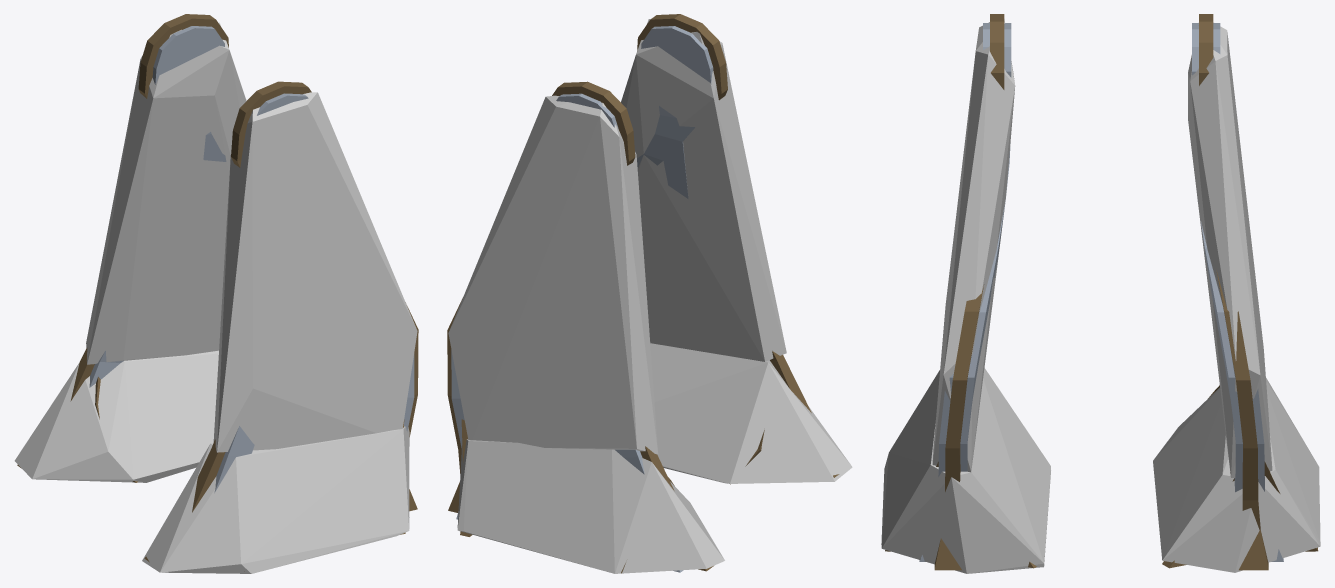
File: SM_Prop_Telescope_01.fbx
The picture shows the model from 3 angles, left to right: view 1: azimuth 30°, elevation 25°; view 2: azimuth 150°, elevation 25°; view 3: azimuth 270°, elevation 25°; orthographic projection. The views are drawn at different scales.
Parts seen in each view (by area): view 1: SM_Prop_Telescope_01_ConvexHulls, SM_Prop_Telescope_01; view 2: SM_Prop_Telescope_01_ConvexHulls, SM_Prop_Telescope_01; view 3: SM_Prop_Telescope_01_ConvexHulls, SM_Prop_Telescope_01.
Part boxes in pixels (box(x1,y1,x2,y2)): SM_Prop_Telescope_01_ConvexHulls: box(14, 22, 417, 573); SM_Prop_Telescope_01: box(17, 14, 418, 571); SM_Prop_Telescope_01_ConvexHulls: box(448, 19, 852, 573); SM_Prop_Telescope_01: box(447, 14, 839, 573); SM_Prop_Telescope_01_ConvexHulls: box(881, 19, 1320, 573); SM_Prop_Telescope_01: box(885, 14, 1318, 570).
Bounding box in the file's own units: 151 × 191 × 237.
2 materials, 1 textured.
